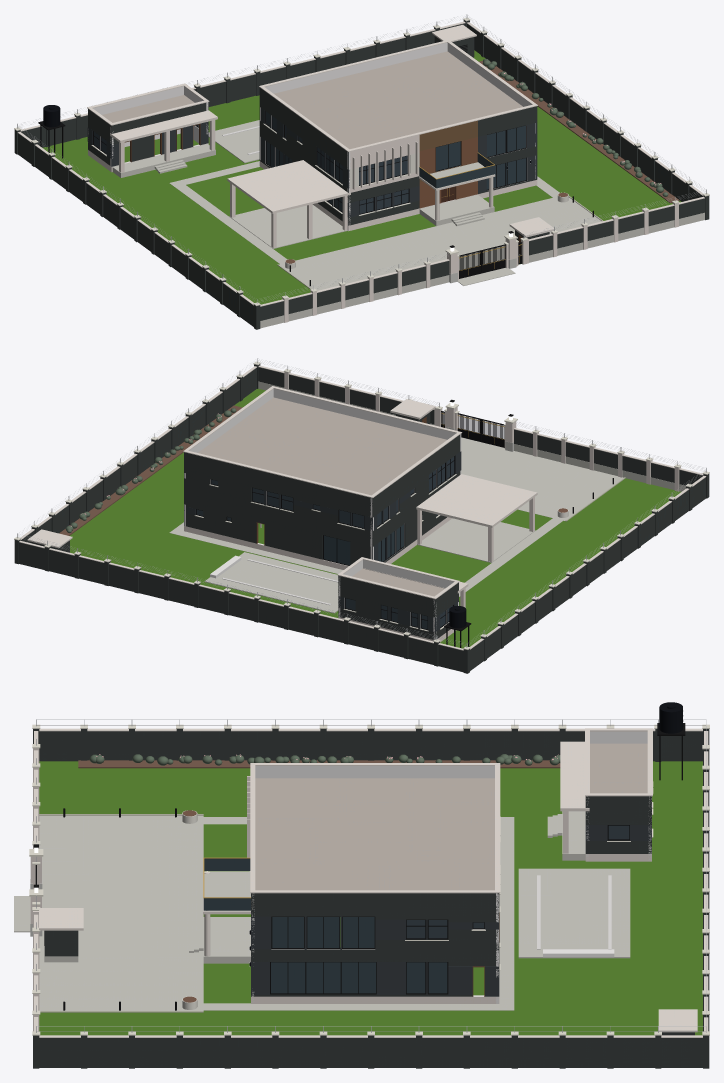
The model's file is est_S6.glb.
The picture shows the model from 3 angles, top to bottom: view 1: azimuth 30°, elevation 25°; view 2: azimuth 150°, elevation 25°; view 3: azimuth 270°, elevation 25°; orthographic projection. The views are drawn at different scales.
Visible parts, largest first — view 1: GR_est_S6, GD_est_S6, GT_est_S6; view 2: GR_est_S6, GD_est_S6, GT_est_S6; view 3: GR_est_S6, GD_est_S6.
Part boxes in pixels (<box>): GR_est_S6: <box>14,20,709,329</box>; GD_est_S6: <box>14,14,709,305</box>; GT_est_S6: <box>459,242,522,278</box>; GR_est_S6: <box>14,364,709,673</box>; GD_est_S6: <box>14,358,709,649</box>; GT_est_S6: <box>441,411,504,447</box>; GR_est_S6: <box>14,728,709,1068</box>; GD_est_S6: <box>29,702,709,1035</box>.
Bounding box in the file's own units: 52.55 × 10.33 × 49.87.
8 materials, 2 textured.
